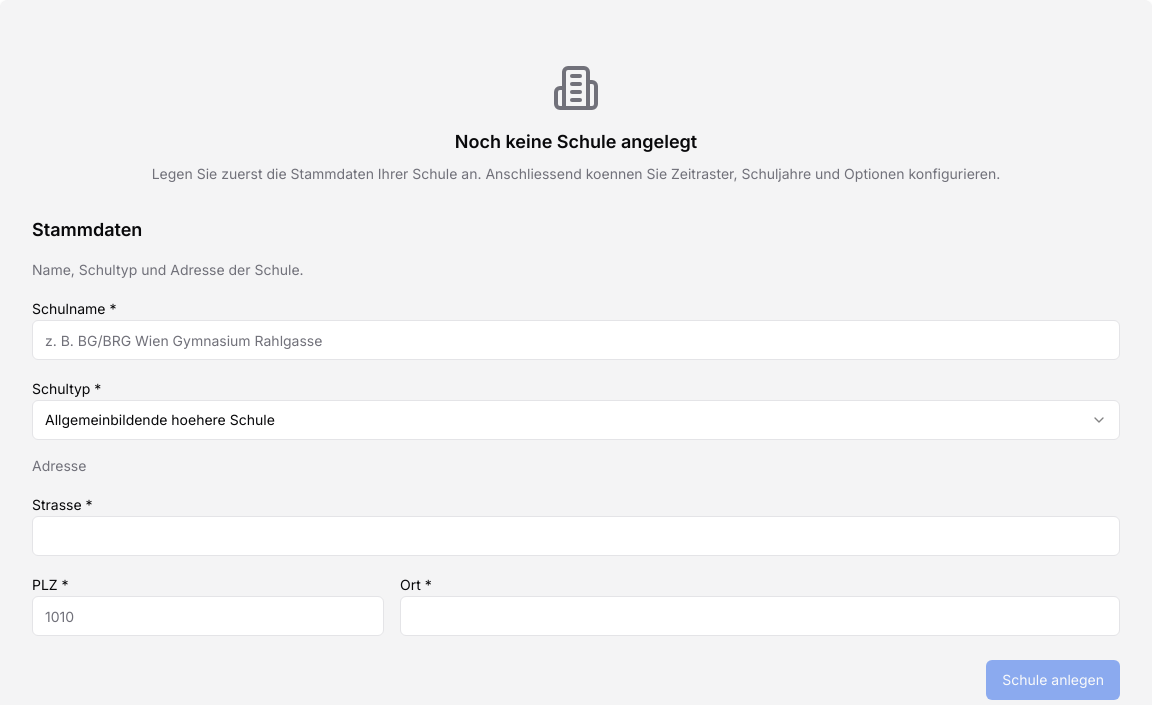
it: SchoolDetailsTab (Plan 10-03b) › validation: empty name surfaces "Name erforderlich" via aria-describedby
The image size is (1152, 705).
Note: Dirty another field so the Save button is enabled, but leave name blank.
Type "Teststr. 1" into the field labelled "Strasse *".
click(576, 536); type("Teststr. 1")  # box [32,516,1120,556]
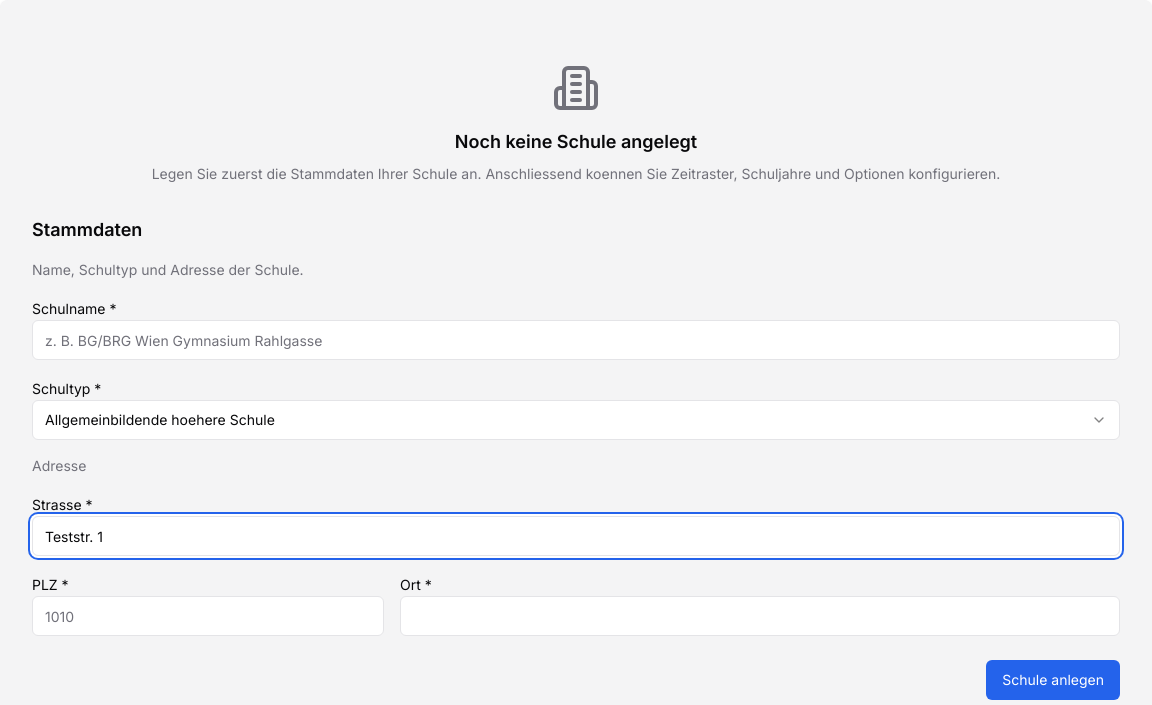
Click the button "Schule anlegen".
click(1053, 680)  # box [986,660,1120,700]
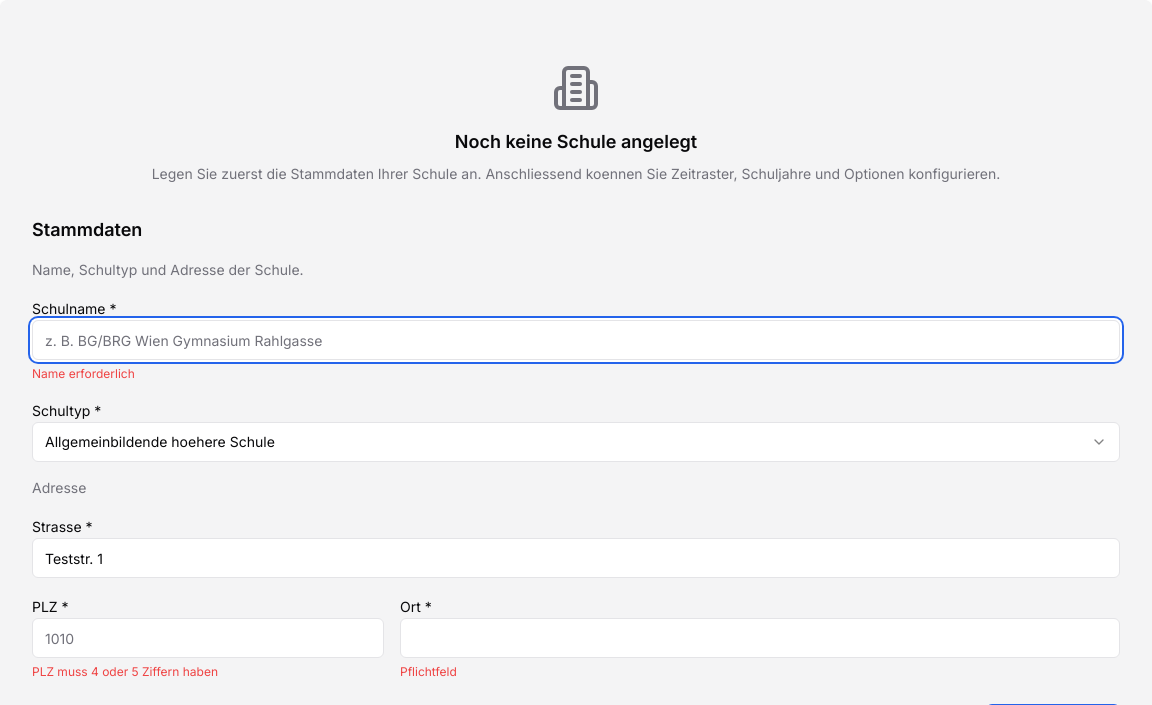
Now the text "Name erforderlich" is shown, box [32,366,135,381]
